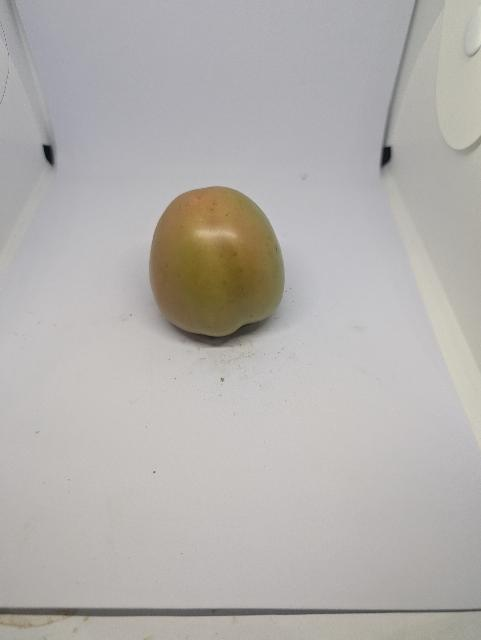breaker: (150, 187, 285, 336)
